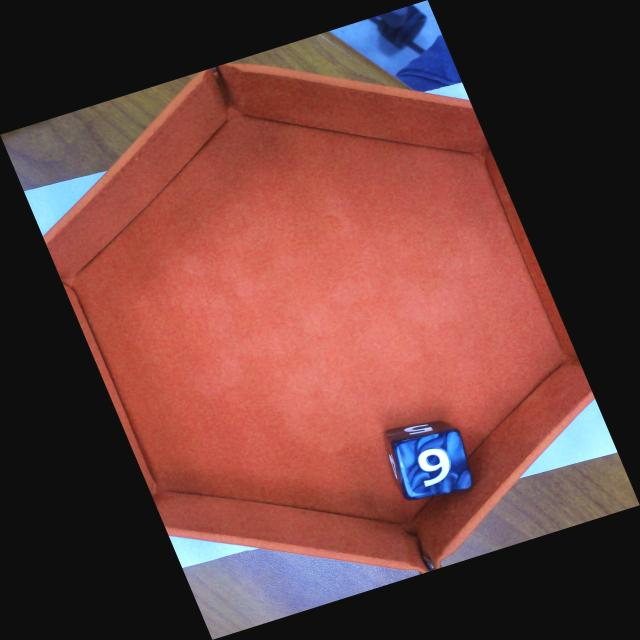dice: (395, 428, 476, 498)
